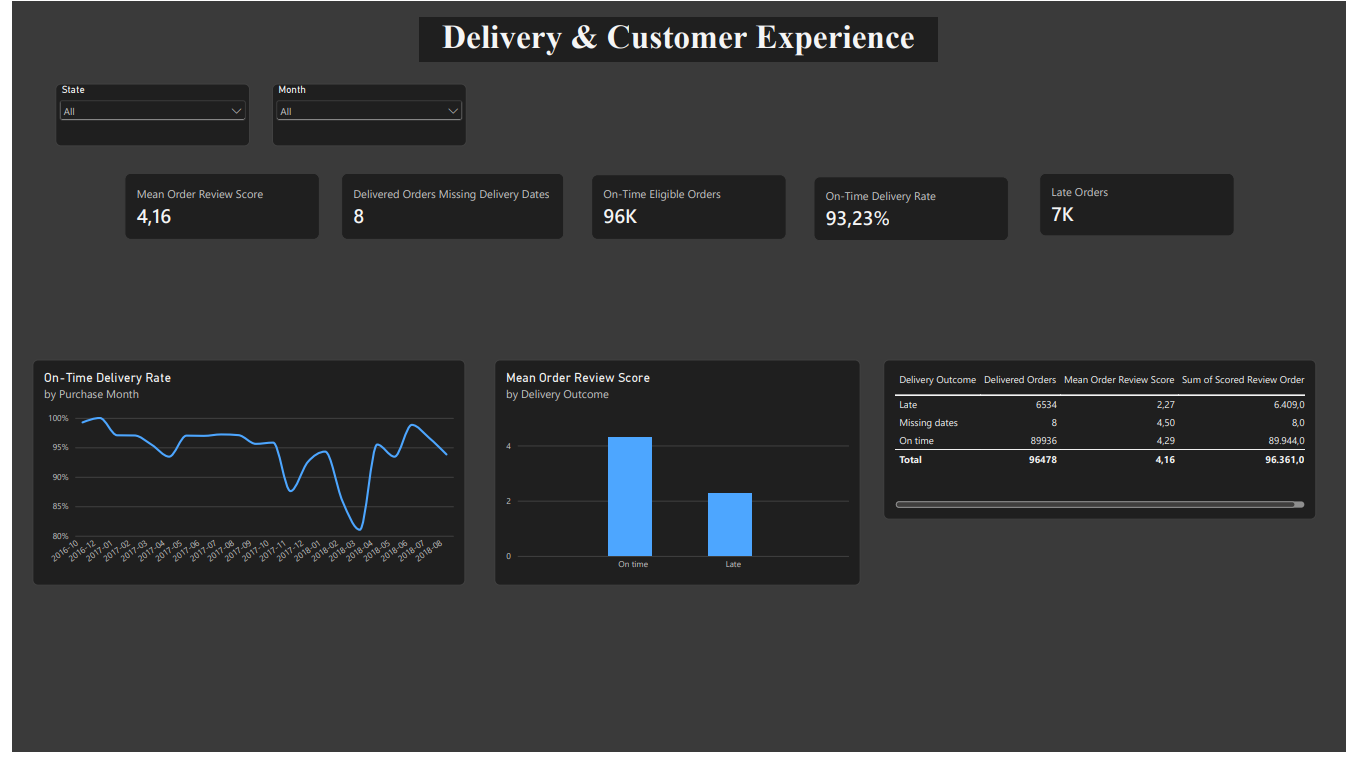

The dashboard page shown, as its layout file describes it:
{"tool":"powerbi","page":{"name":"Delivery & Customer Experience","canvas":[1920,1080],"ordinal":2},"visuals":[{"type":"textbox","box":[586.7,23.3,746.7,63.3],"z":0},{"type":"slicer","fields":{"Values":["delivered_order_items.customer_state"]},"box":[62.5,117.5,280,90],"z":1000},{"type":"slicer","fields":{"Values":["delivered_order_items.order_purchase_timestamp.Variation.Date Hierarchy.Month"]},"box":[375,117.5,280,90],"z":2000},{"type":"cardVisual","fields":{"Data":["delivered_order_items.On-Time Delivery Rate"]},"box":[1155,251.5,280,92.5],"z":3000},{"type":"cardVisual","fields":{"Data":["delivered_order_items.On-Time Eligible Orders"]},"box":[835,249,280,92.5],"z":4000},{"type":"cardVisual","fields":{"Data":["delivered_orders.Late Orders"]},"box":[1480,246.5,280,90],"z":5000},{"type":"cardVisual","fields":{"Data":["delivered_orders.Mean Order Review Score"]},"box":[162.5,246.5,280,95],"z":6000},{"type":"cardVisual","fields":{"Data":["delivered_orders.Delivered Orders Missing Delivery Dates"]},"box":[475,246.5,320,95],"z":7000},{"type":"lineChart","fields":{"Category":["delivered_orders.purchase_month"],"Y":["delivered_order_items.On-Time Delivery Rate"]},"box":[30,515,622.5,325],"z":8000},{"type":"columnChart","fields":{"Category":["delivered_orders.delivery_outcome"],"Y":["delivered_orders.Mean Order Review Score"]},"box":[695,515,526.7,325],"z":9000},{"type":"tableEx","fields":{"Values":["delivered_orders.delivery_outcome","delivered_orders.Delivered Orders","delivered_orders.Mean Order Review Score","Sum(delivered_orders.scored_review_records)"]},"box":[1255,515,622.5,230],"z":10000}]}

Visuals, with their boxes in screenshot pixels (x1, y1, x2, y2), scaled from the page's 1920x1080 canvas onto the 1351x762 screenshot:
textbox: pyautogui.locateOnScreen(413, 16, 938, 61)
slicer - delivered_order_items.customer_state: pyautogui.locateOnScreen(44, 83, 241, 146)
slicer - delivered_order_items.order_purchase_timestamp.Variation.Date Hierarchy.Month: pyautogui.locateOnScreen(264, 83, 461, 146)
cardVisual - delivered_order_items.On-Time Delivery Rate: pyautogui.locateOnScreen(813, 177, 1010, 243)
cardVisual - delivered_order_items.On-Time Eligible Orders: pyautogui.locateOnScreen(588, 176, 785, 241)
cardVisual - delivered_orders.Late Orders: pyautogui.locateOnScreen(1041, 174, 1238, 237)
cardVisual - delivered_orders.Mean Order Review Score: pyautogui.locateOnScreen(114, 174, 311, 241)
cardVisual - delivered_orders.Delivered Orders Missing Delivery Dates: pyautogui.locateOnScreen(334, 174, 559, 241)
lineChart - delivered_orders.purchase_month x delivered_order_items.On-Time Delivery Rate: pyautogui.locateOnScreen(21, 363, 459, 593)
columnChart - delivered_orders.delivery_outcome x delivered_orders.Mean Order Review Score: pyautogui.locateOnScreen(489, 363, 860, 593)
tableEx - delivered_orders.delivery_outcome x delivered_orders.Delivered Orders: pyautogui.locateOnScreen(883, 363, 1321, 526)
